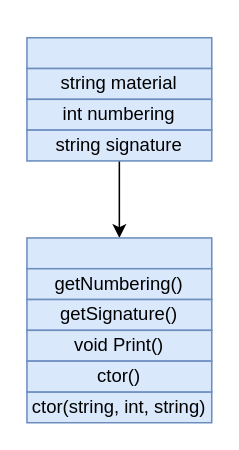
Image size: 239x450. Some labels were removed from this diagram. Each missing label, with the box of its shape:
class banknote: (25, 36, 212, 69)
getMaterial(): (25, 236, 212, 269)
